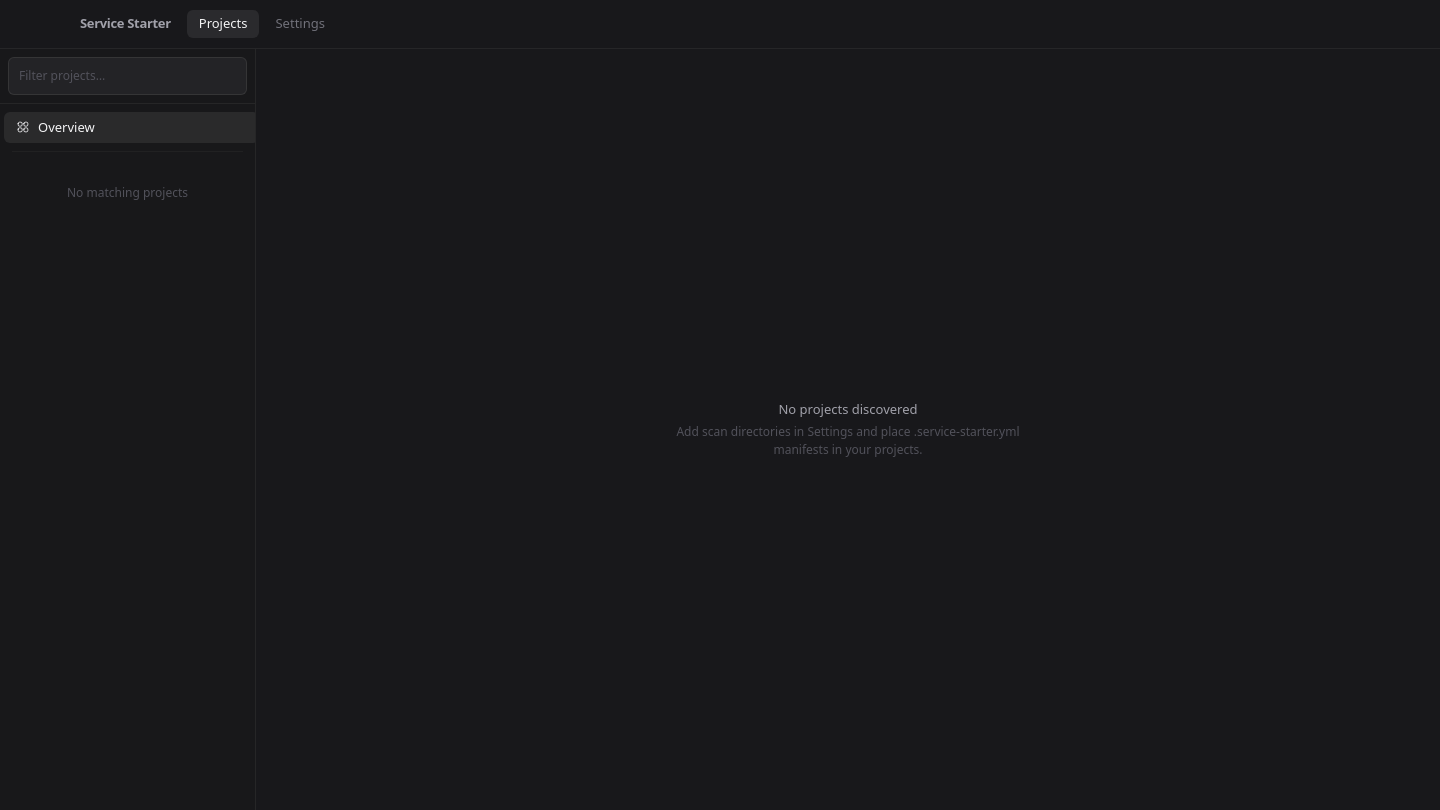
Test: DashboardWindow › shows component detail when a component is selected in the tree
What coordinates should you click on to do the following:
click the button "Projects"
I would click on:
 (223, 24)
Its box is 187,10 -> 260,38.
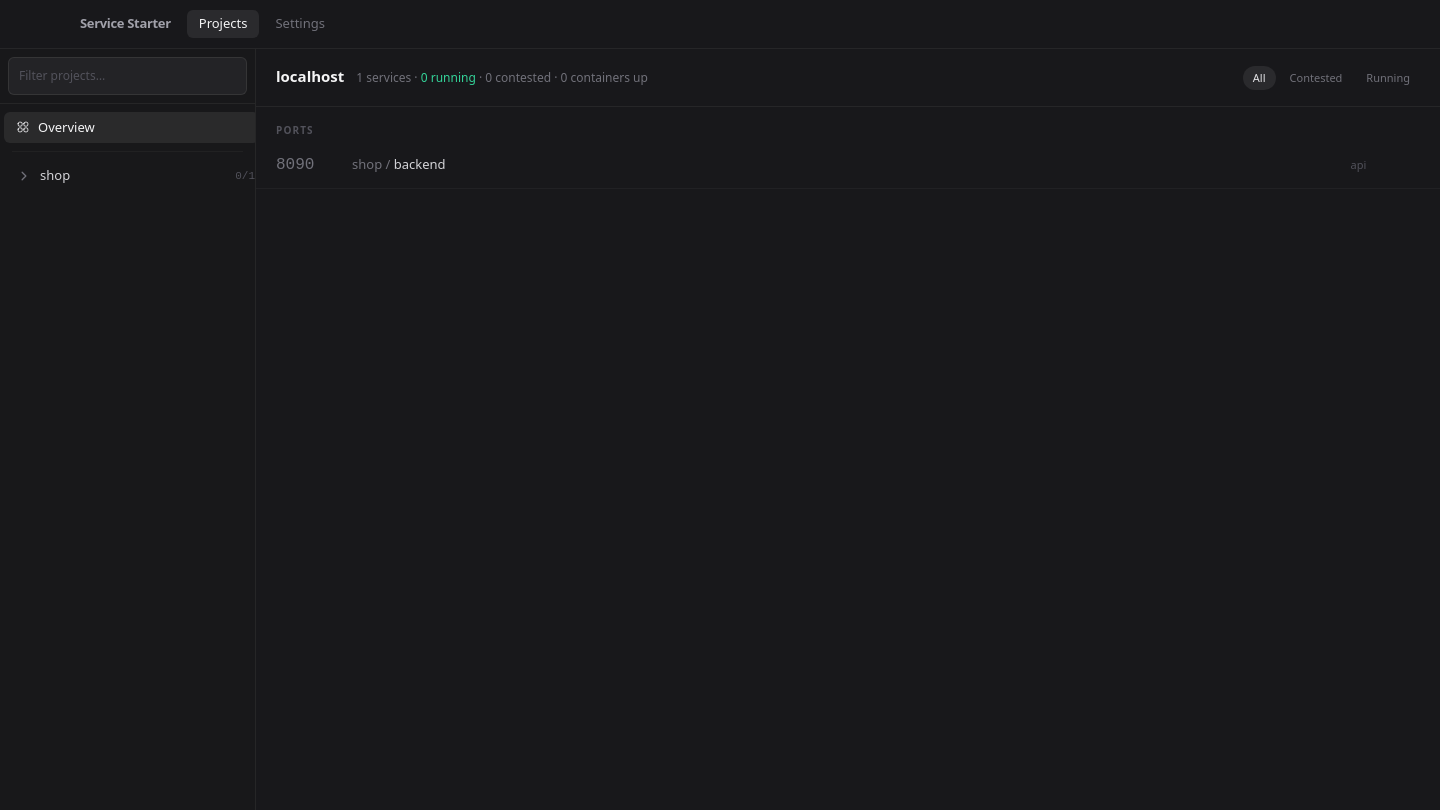
Result: the button named "Expand shop" is shown
What coordinates should you click on to do the following:
click the button named "Expand shop"
I would click on:
 (24, 176)
Its box is 16,168 -> 32,184.
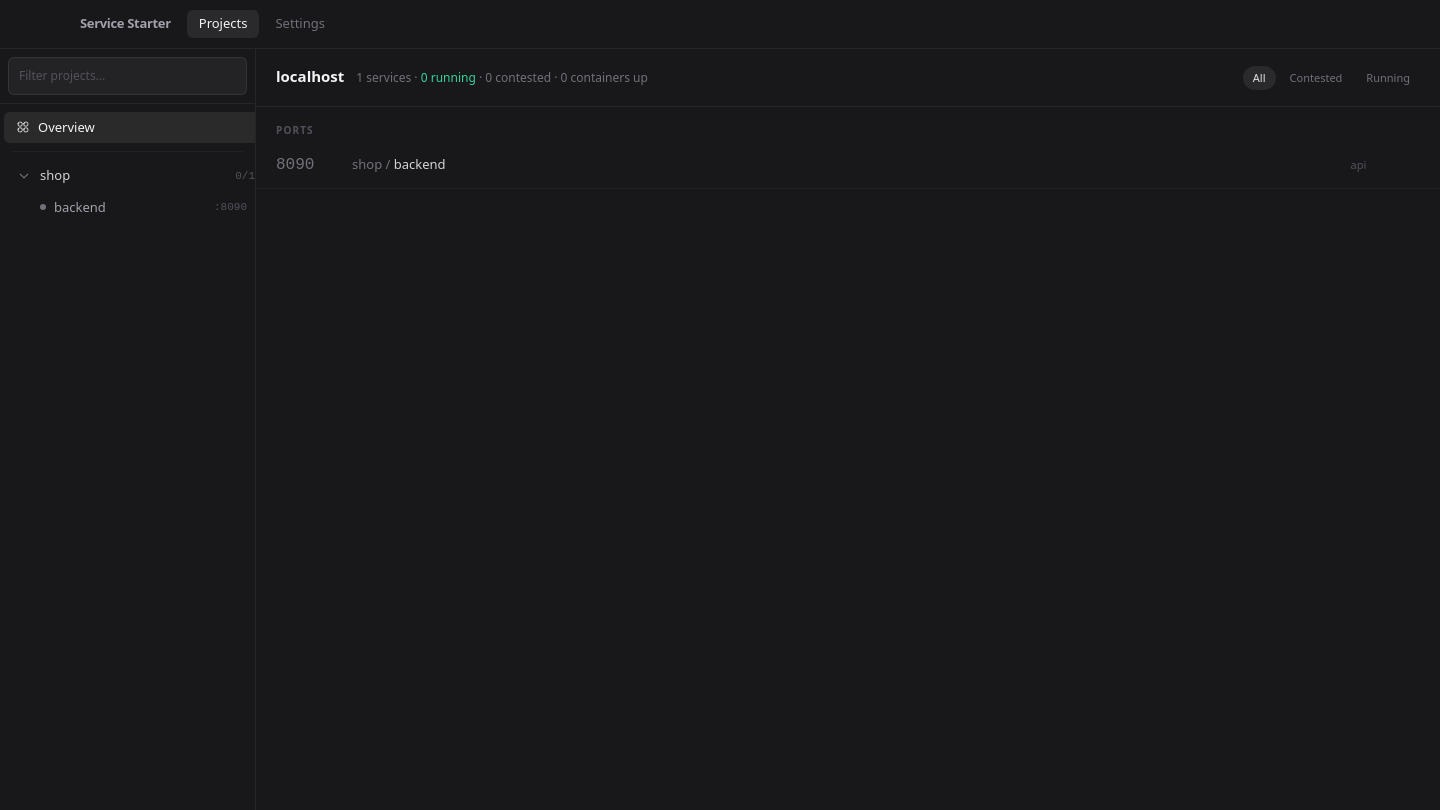
What coordinates should you click on to do the following:
click the button with aria-label "backend component"
I would click on:
 (132, 207)
Its box is 4,192 -> 259,223.
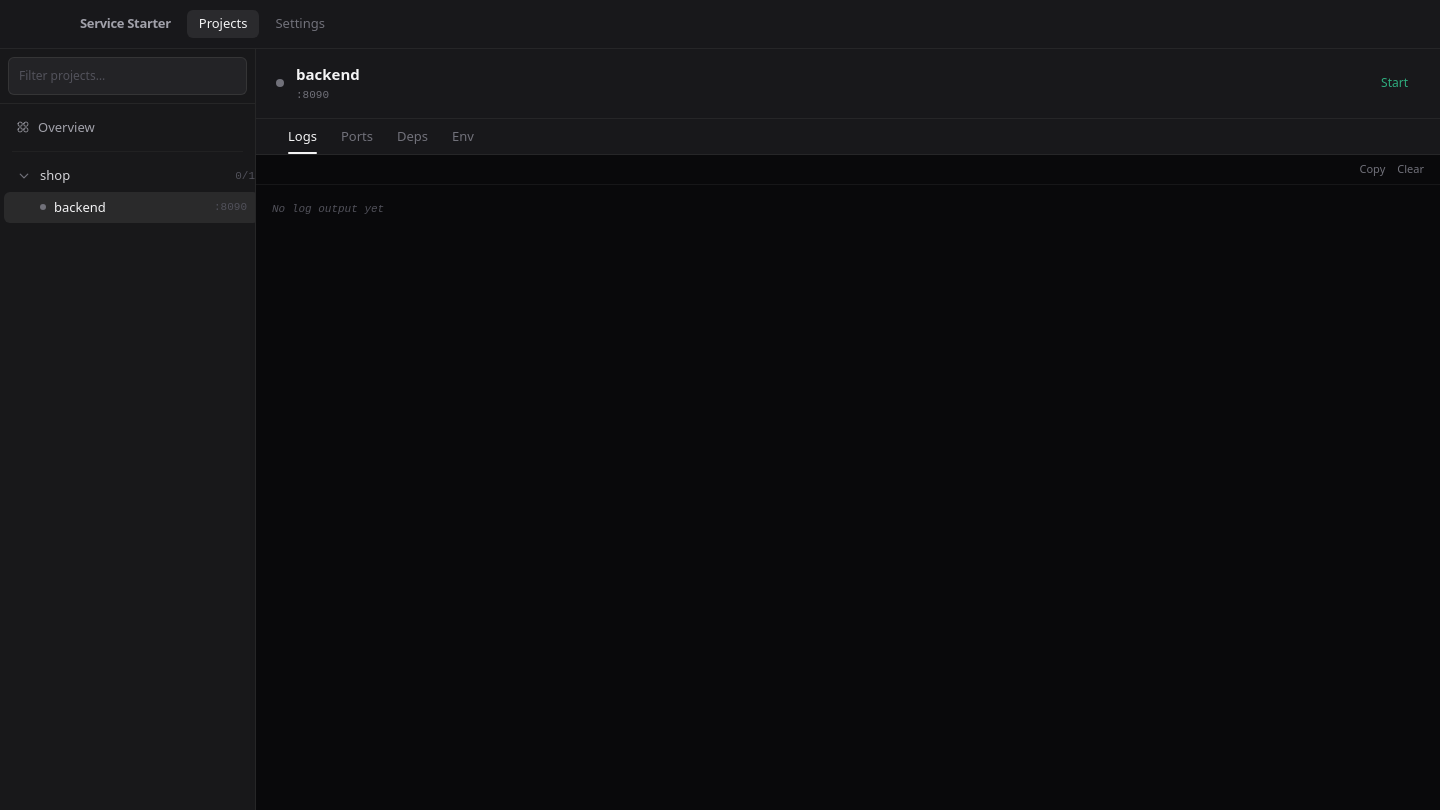
Result: the tab "Logs" is shown at 276,118 -> 329,154
